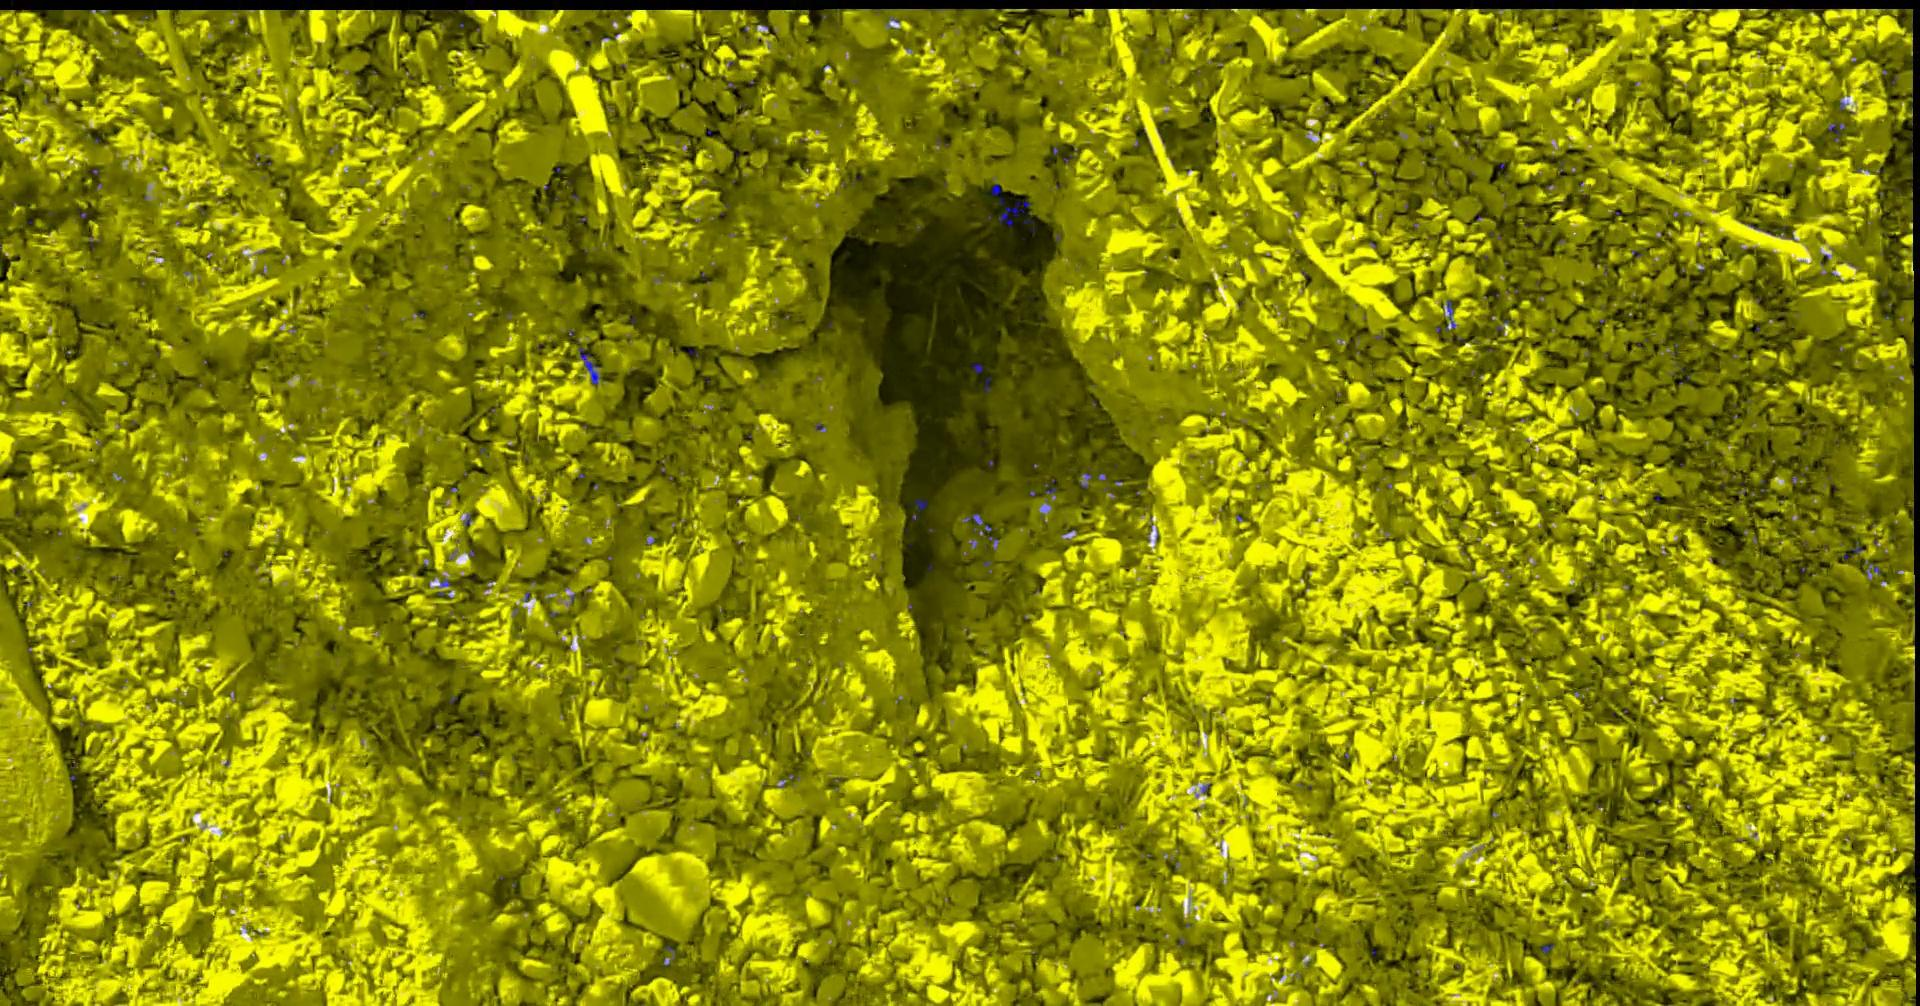ant: (964, 513, 997, 549), (577, 347, 599, 385), (998, 199, 1029, 225), (1435, 298, 1455, 332), (1827, 122, 1844, 142), (914, 499, 927, 511)
